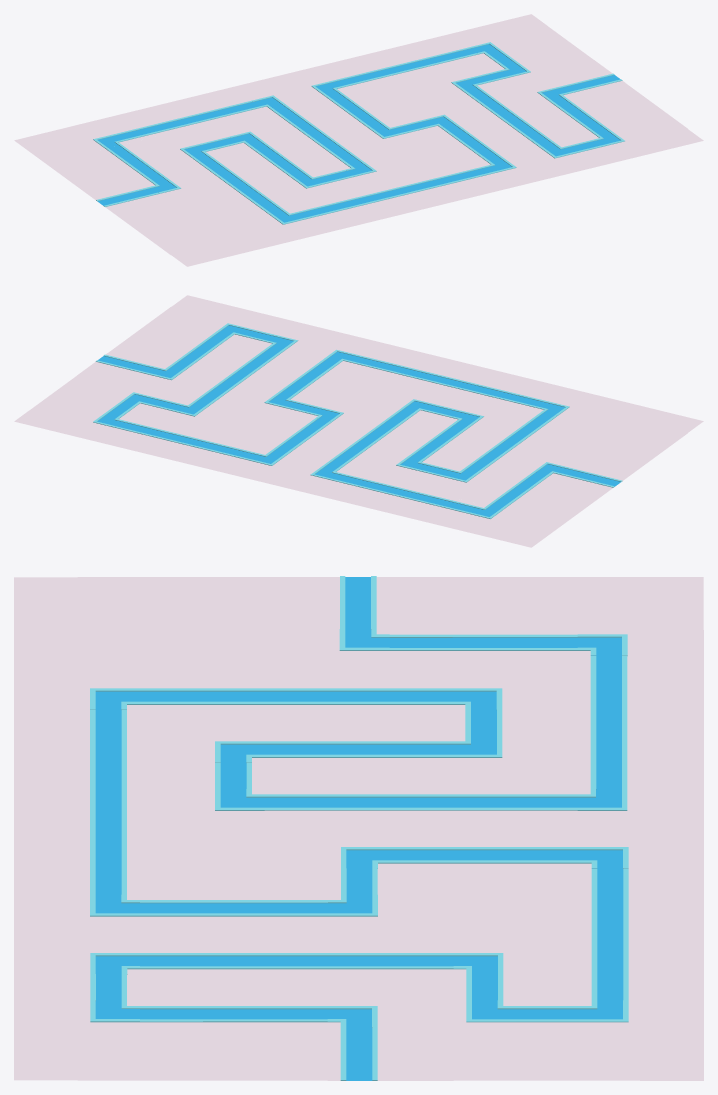
File: Trilha neve 2 j.fbx
3 views of the same model, one above another, from view 1: azimuth 30°, elevation 25°; view 2: azimuth 150°, elevation 25°; view 3: azimuth 270°, elevation 25° (orthographic). The views are drawn at different scales.
Visible parts, largest first — view 1: Plane; view 2: Plane; view 3: Plane.
Part boxes in pixels (box(x1,y1,x2,y2)): Plane: box(14, 14, 703, 266); Plane: box(14, 295, 703, 547); Plane: box(14, 576, 703, 1080).
Bounding box in the file's own units: 17847 × 15.72 × 10326.
